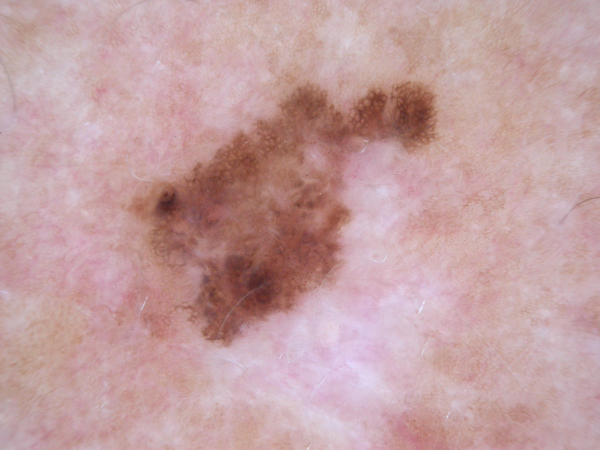Detected Lesion: (127, 77, 444, 348)
